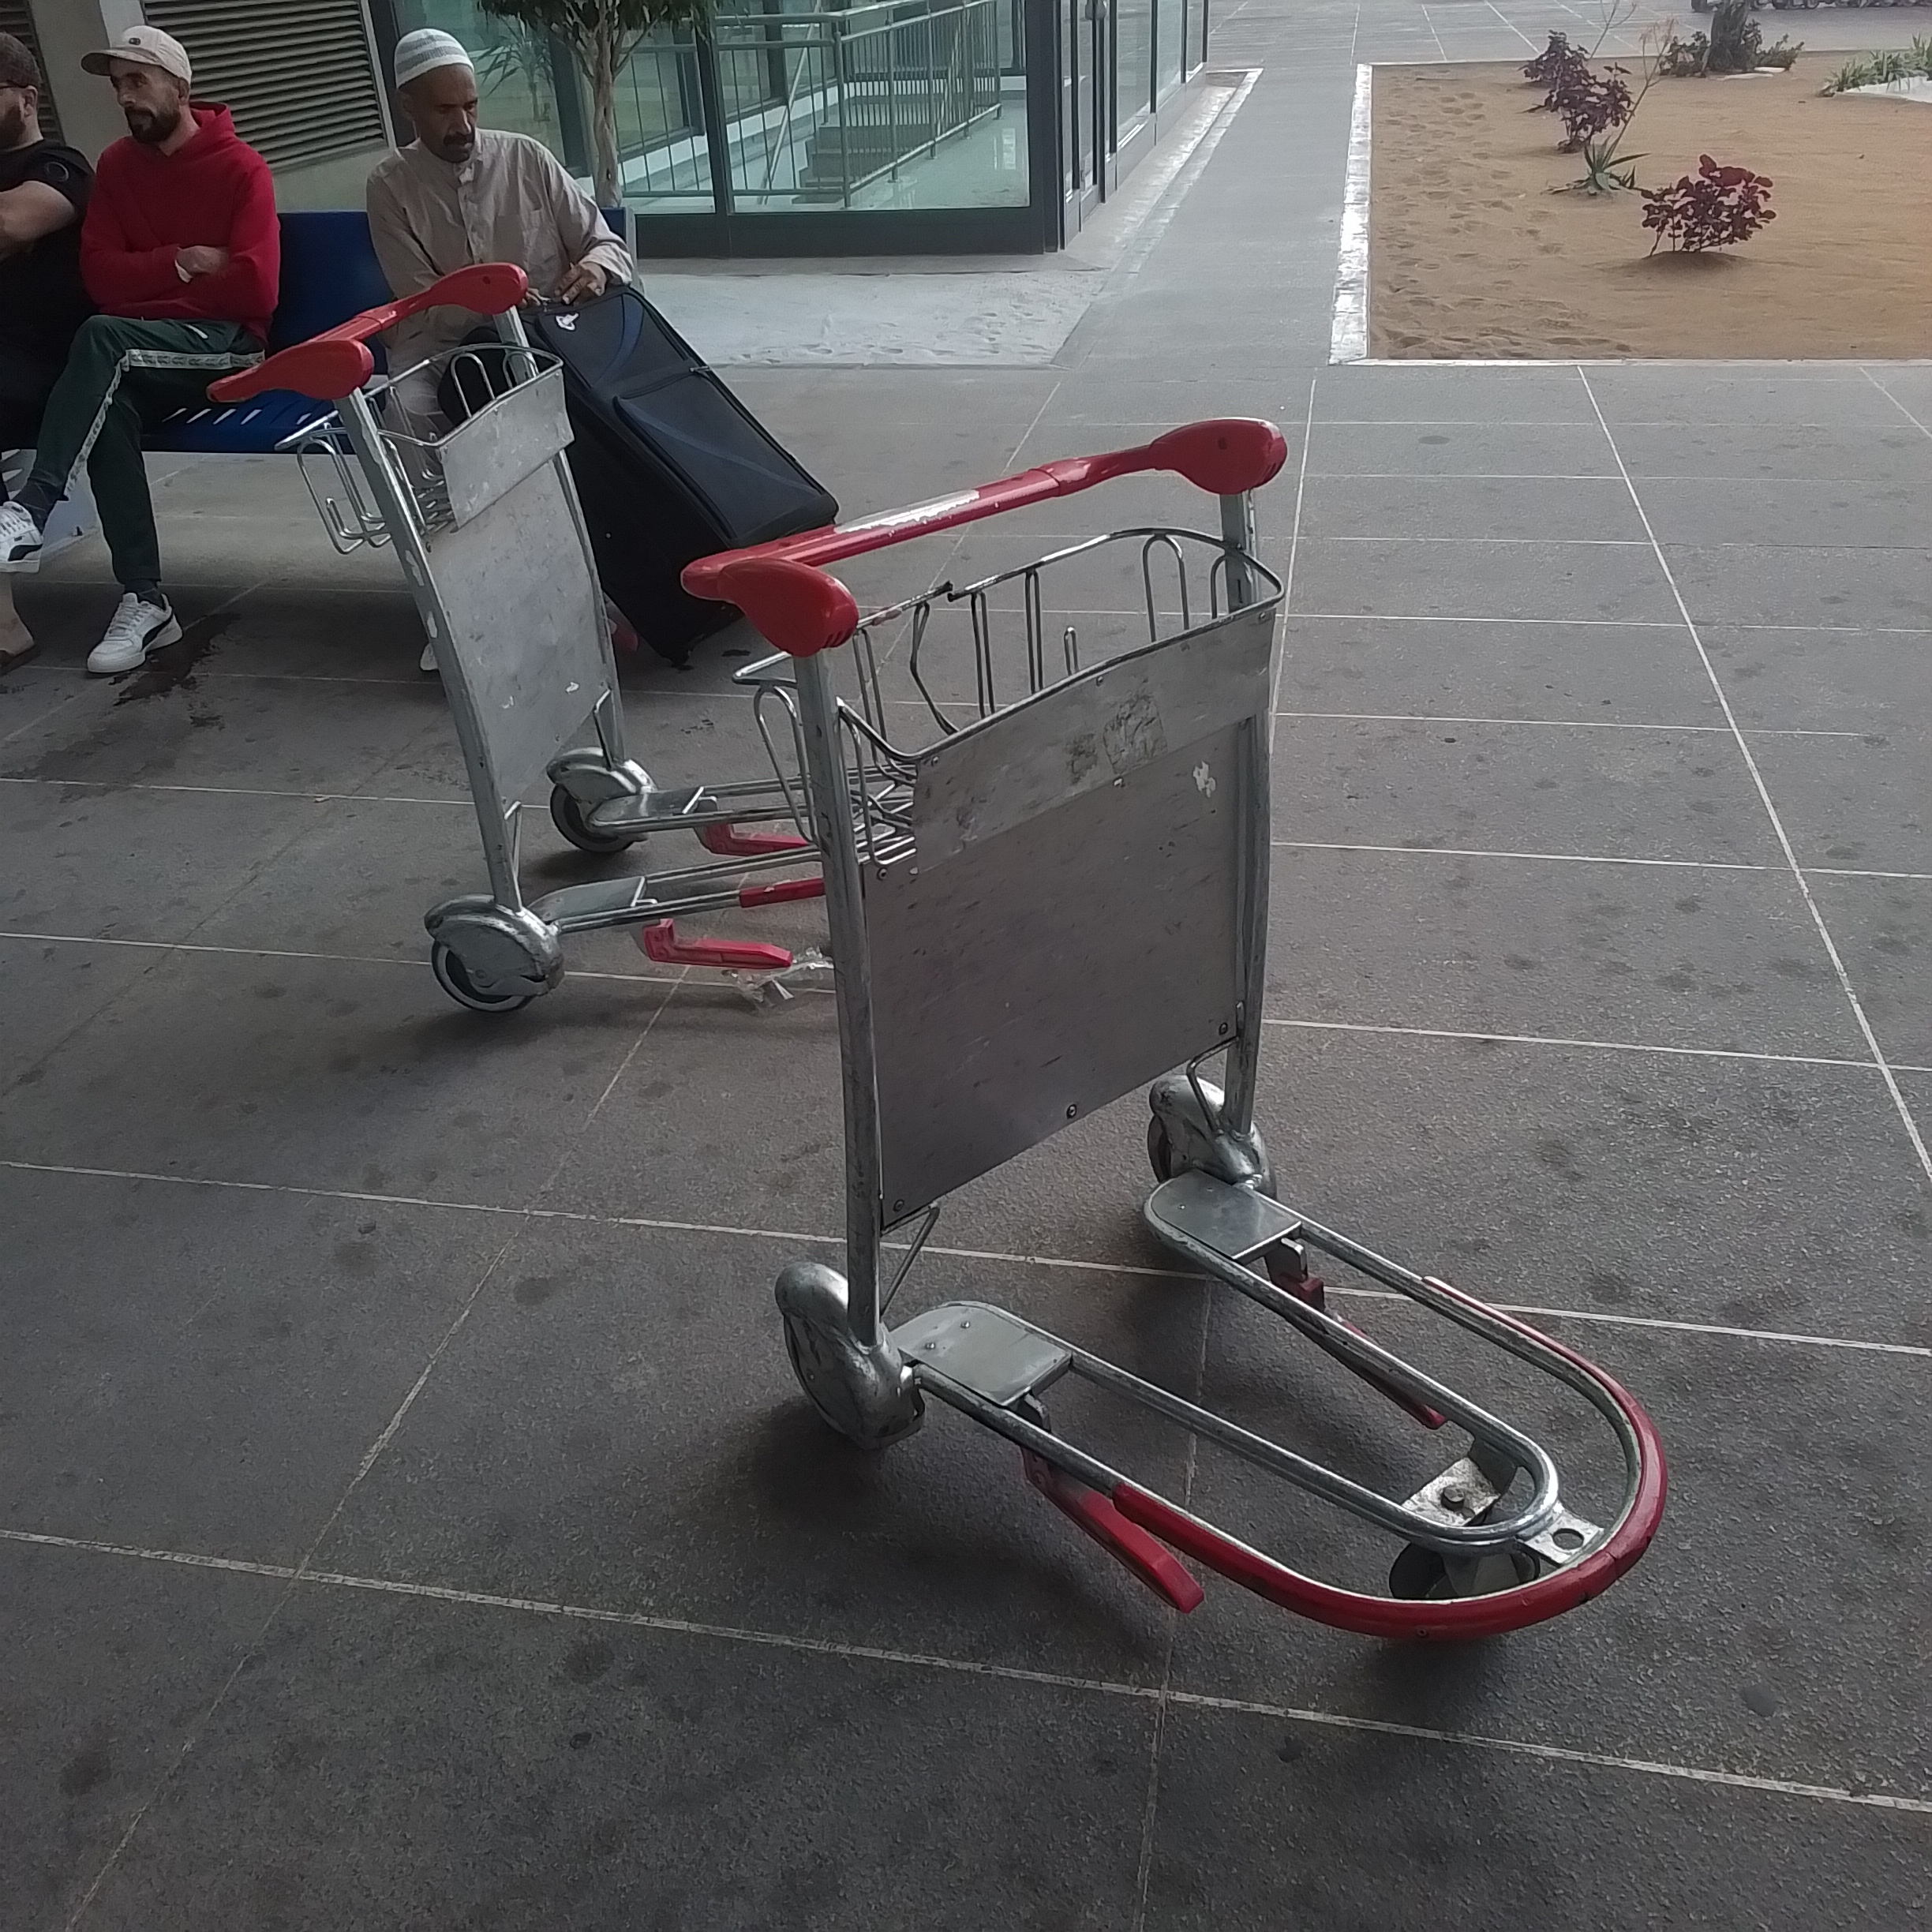airport-trolley: (662, 407, 1677, 1638), (212, 272, 911, 989)
